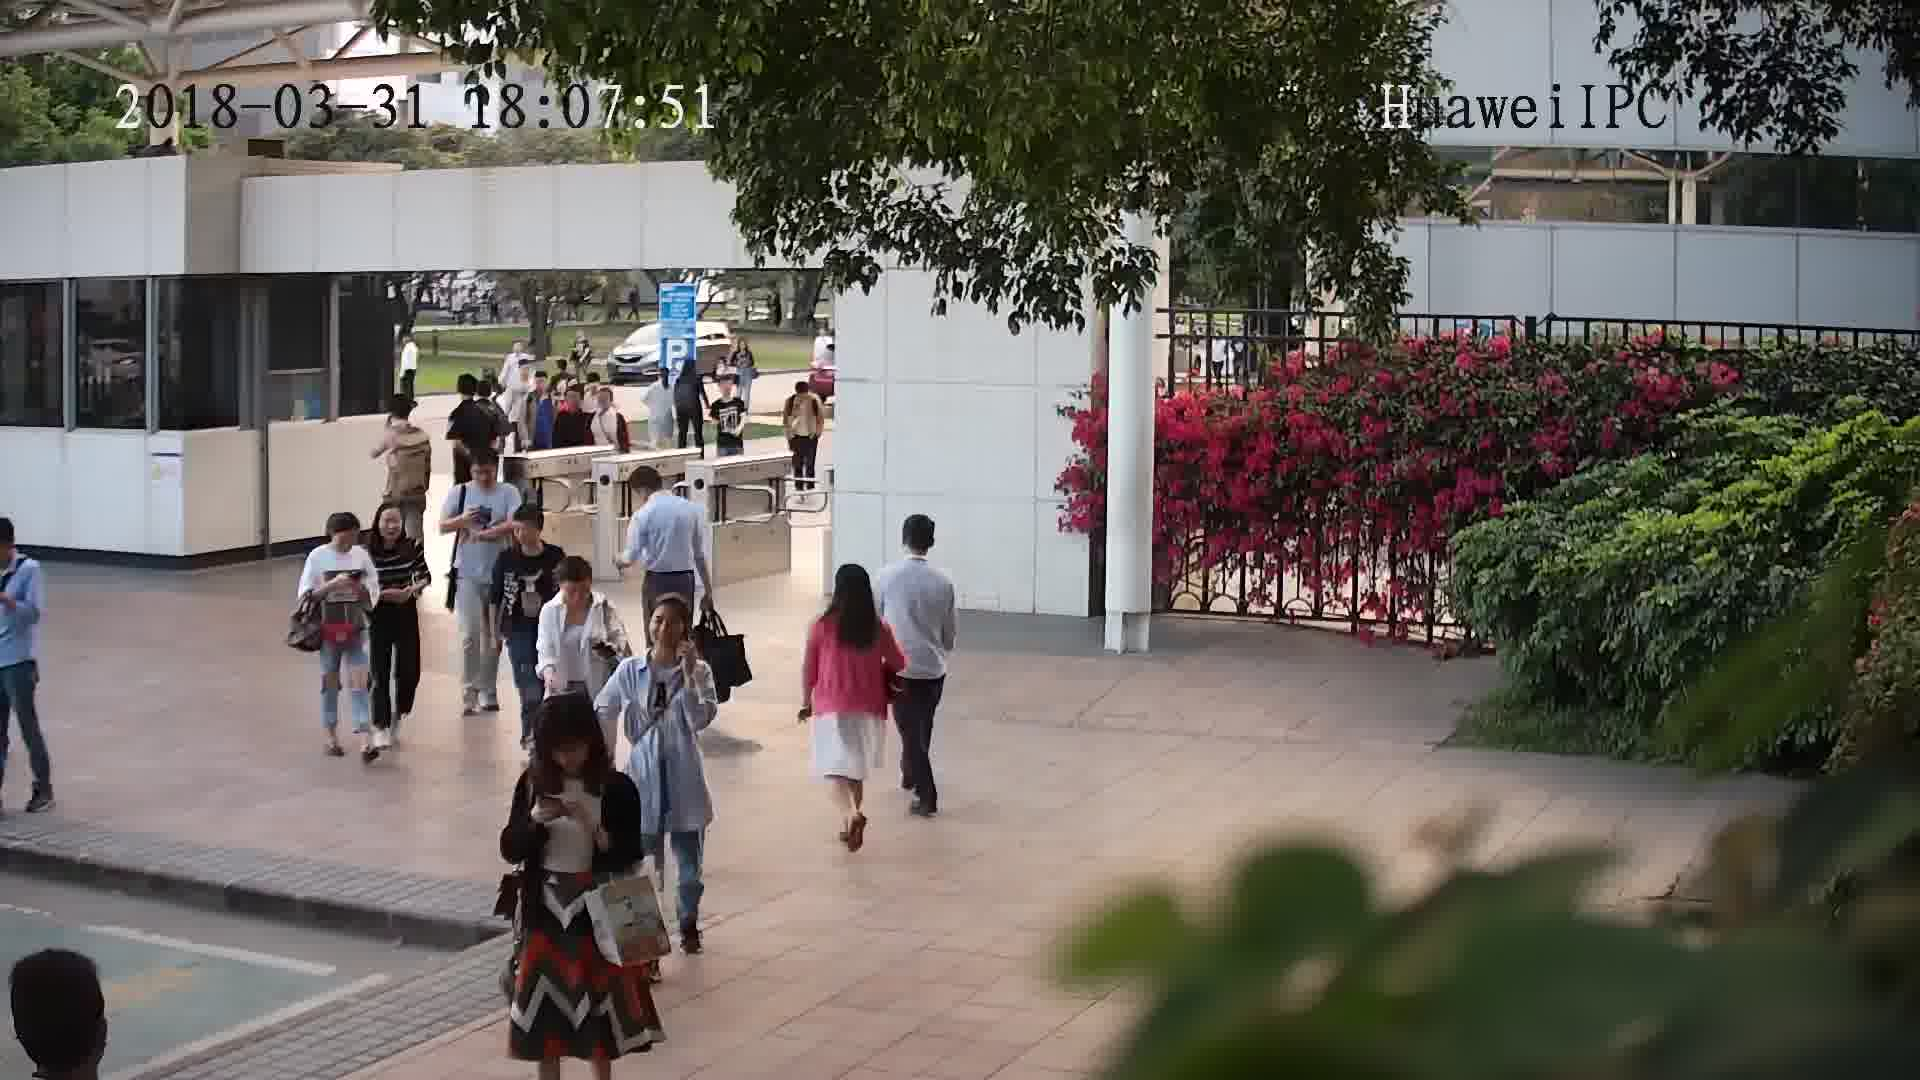face: (642, 599, 693, 650)
person: (12, 940, 173, 1079), (518, 693, 623, 795), (614, 593, 707, 687), (809, 558, 889, 641), (883, 510, 959, 596), (537, 554, 618, 626), (624, 460, 704, 526), (494, 503, 560, 568), (304, 508, 372, 568), (450, 445, 518, 504), (1, 516, 48, 591), (357, 503, 419, 557), (377, 389, 428, 450), (446, 372, 496, 423), (590, 379, 630, 427), (551, 376, 590, 425), (517, 361, 554, 410), (711, 379, 749, 416), (641, 367, 677, 404), (784, 375, 823, 407), (507, 359, 538, 394), (675, 358, 709, 389), (549, 356, 580, 384), (728, 335, 756, 363)
